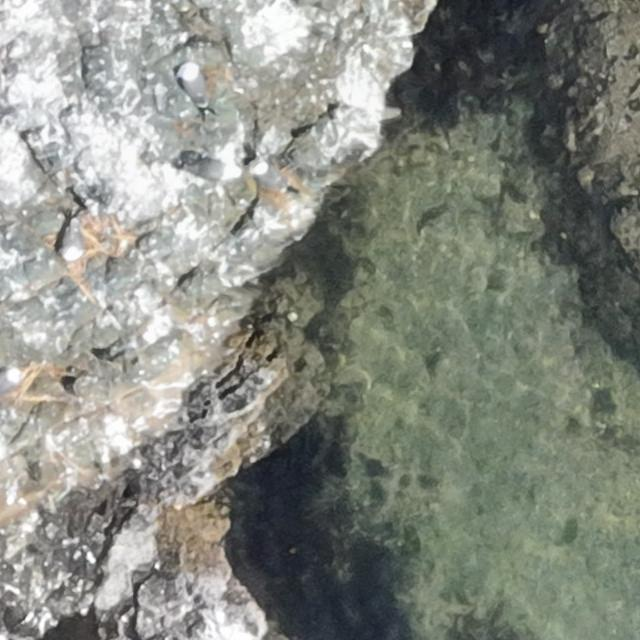umineko: (187, 154, 242, 180), (58, 215, 84, 263), (256, 162, 290, 190), (183, 69, 207, 105), (1, 370, 19, 394)
